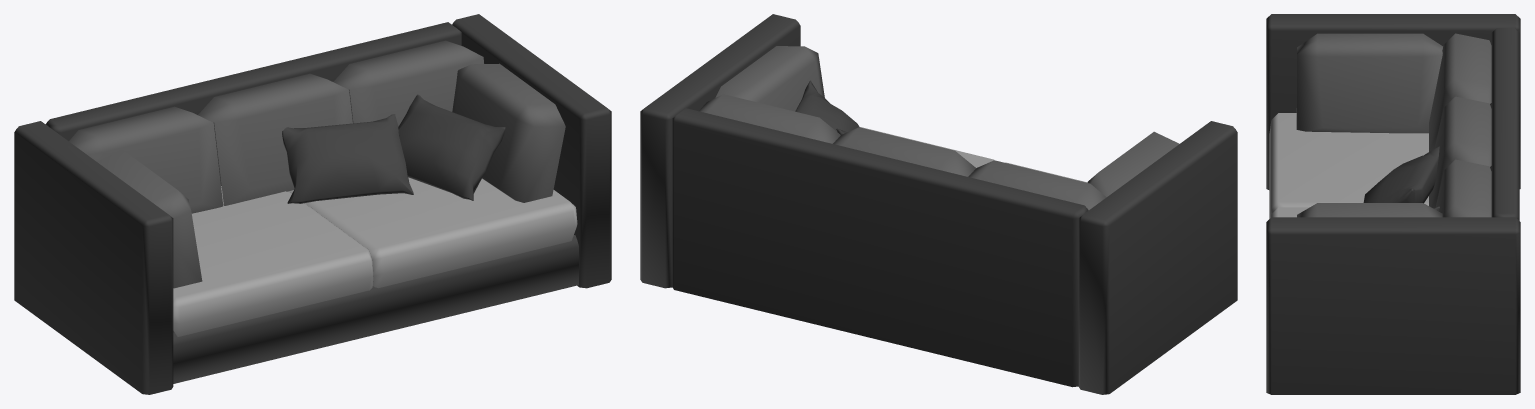
File: sofa_005.glb
The picture shows the model from 3 angles, left to right: view 1: azimuth 30°, elevation 25°; view 2: azimuth 150°, elevation 25°; view 3: azimuth 270°, elevation 25°; orthographic projection. The views are drawn at different scales.
Visible parts, largest first — view 1: sofa_005; view 2: sofa_005; view 3: sofa_005.
Part boxes in pixels (x1,y1,x2,y2): sofa_005: [14, 14, 611, 394]; sofa_005: [640, 14, 1237, 394]; sofa_005: [1266, 14, 1520, 394].
Size of the model in its own units: 2.05 by 0.7309 by 1.01.
Materials: 1 (1 with a texture image).
